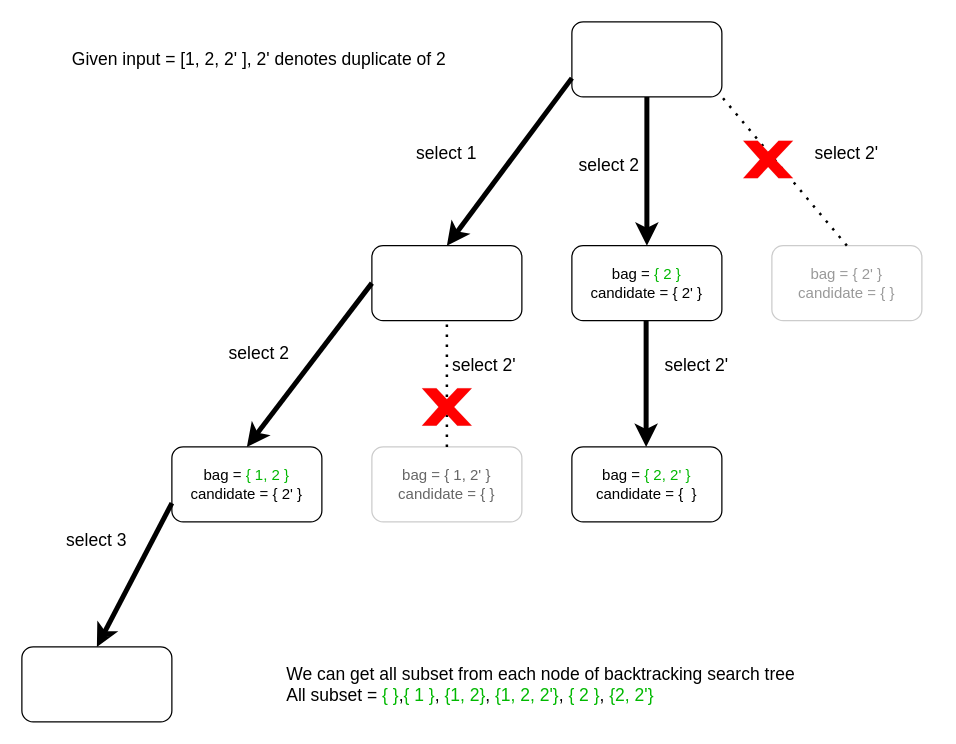
Some shapes in this 956 by 744 pixel diagram are drawn without their labels. Each missing label, with the centre of its shape:
bag = { 1 } candidate = {2, 2'}: point (446, 282)
bag = { 1, 2, 2' } candidate = { }: point (96, 684)
bag = { } candidate = {1, 2, 2' }: point (646, 59)
